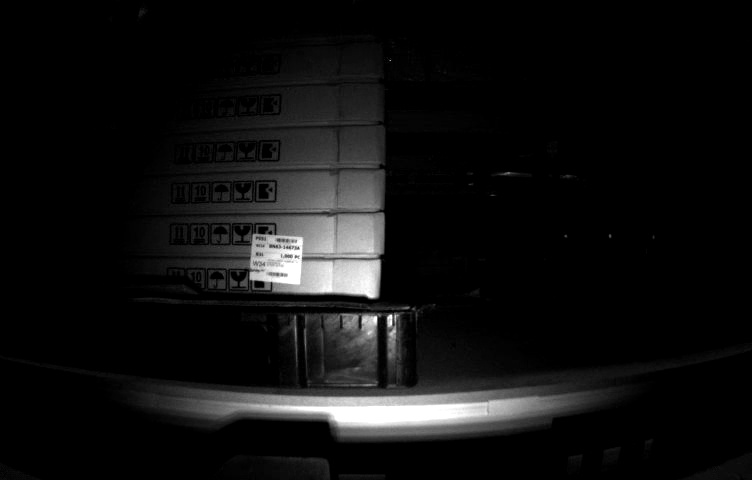True Barcode: (252, 230, 305, 288)
